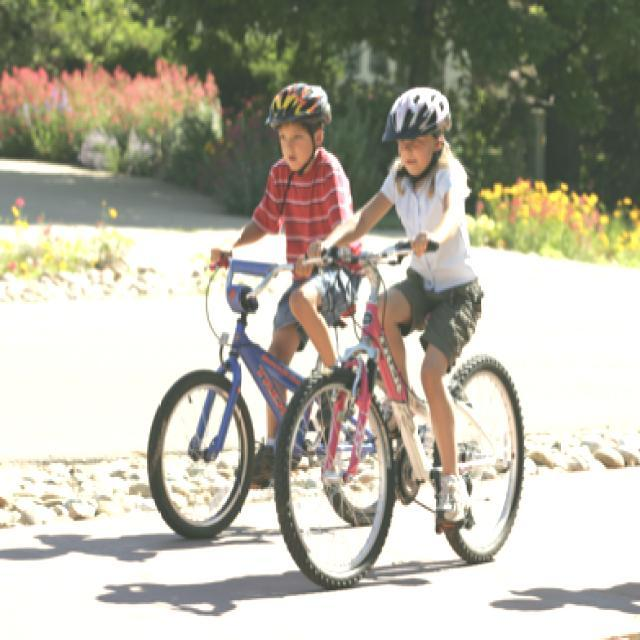Helmet: (261, 71, 338, 173), (379, 79, 459, 177)
